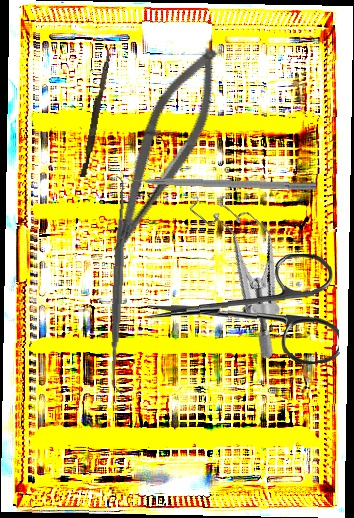Chopper: (117, 165, 317, 191)
Iris Scissors: (145, 252, 340, 370)
Micro Scissor: (96, 35, 235, 266)
Pusher: (80, 46, 112, 179)
Spatula Surgical: (100, 176, 137, 394)
Speculum: (143, 171, 336, 363)
